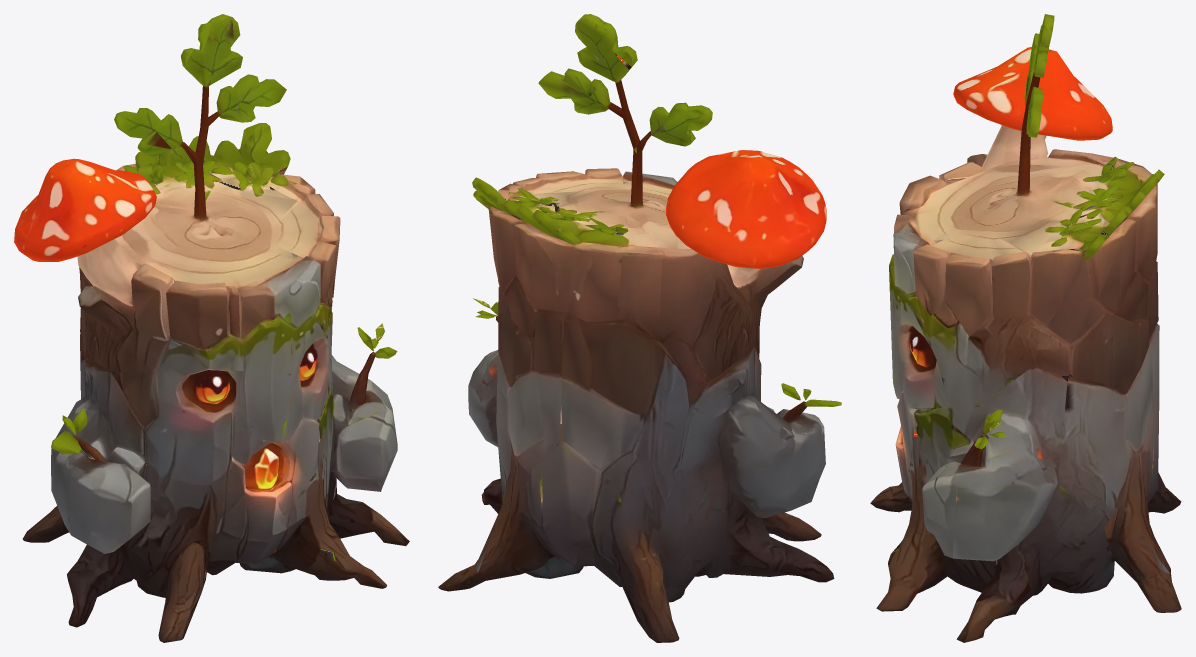
File: wood-master.glb
The picture shows the model from 3 angles, left to right: view 1: azimuth 30°, elevation 25°; view 2: azimuth 150°, elevation 25°; view 3: azimuth 270°, elevation 25°; orthographic projection. The views are drawn at different scales.
Visible parts, largest first — view 1: model; view 2: model; view 3: model.
Boxes of the visible parts, bbox=[...] form: model: bbox=[14, 14, 409, 642]; model: bbox=[438, 14, 841, 642]; model: bbox=[870, 14, 1181, 642].
Bounding box in the file's own units: 1.32 × 1.89 × 0.9693.
Materials: 1 (1 with a texture image).
